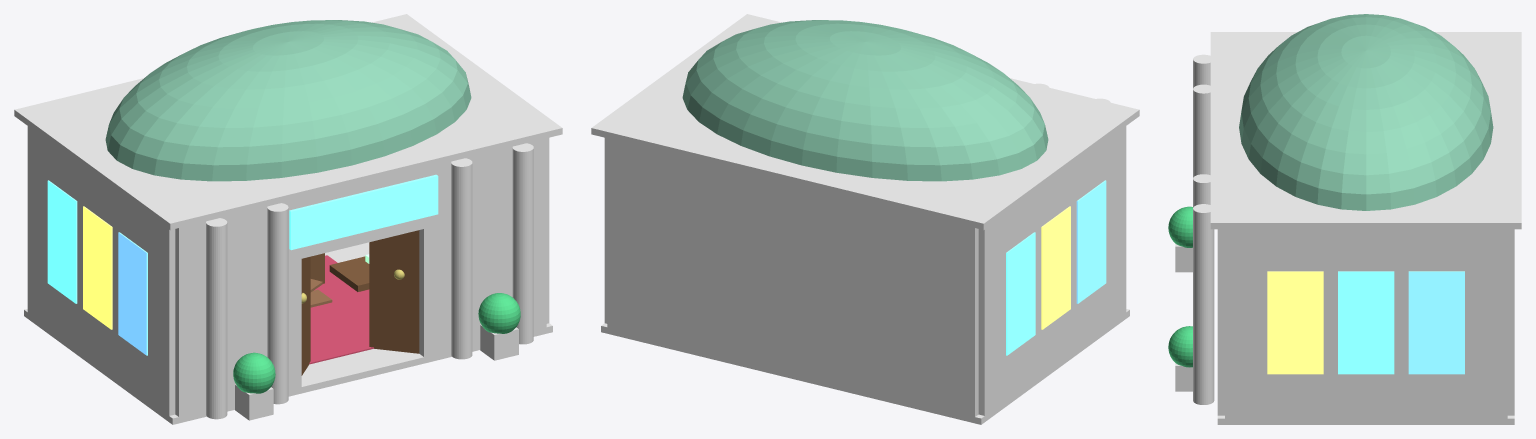
File: gen_1772928983489.glb
The picture shows the model from 3 angles, left to right: view 1: azimuth 30°, elevation 25°; view 2: azimuth 150°, elevation 25°; view 3: azimuth 270°, elevation 25°; orthographic projection.
Parts seen in each view (by area): view 1: Sphere, Cube.007, Cube.001, Cube.005, Cube.004, Cube.008, Cube.016, Cube, Cylinder.002, Cylinder, Cube.017, Cylinder.001 (+12 smaller); view 2: Cube.003, Sphere, Cube.007, Cube.001, Cube, Cube.009, Cube.013, Cube.011, Cube.002; view 3: Sphere, Cube.002, Cube.007, Cube.010, Cube.012, Cube.014, Cylinder.003, Cube, Cylinder.001, Cube.003, Cube.005, Sphere.007 (+5 smaller).
Part boxes in pixels (bbox=[...]): Sphere: bbox=[105, 20, 471, 181]; Cube.007: bbox=[14, 14, 562, 229]; Cube.001: bbox=[27, 126, 175, 415]; Cube.005: bbox=[419, 138, 546, 356]; Cube.004: bbox=[175, 198, 301, 416]; Cube.008: bbox=[289, 174, 438, 250]; Cube.016: bbox=[369, 230, 419, 353]; Cube: bbox=[24, 242, 552, 424]; Cylinder.002: bbox=[451, 158, 472, 359]; Cylinder: bbox=[206, 218, 227, 419]; Cube.017: bbox=[309, 255, 373, 364]; Cylinder.001: bbox=[267, 203, 288, 404]; Cube.003: bbox=[607, 138, 978, 416]; Sphere: bbox=[682, 20, 1048, 181]; Cube.007: bbox=[591, 14, 1139, 229]; Cube.001: bbox=[978, 126, 1126, 415]; Cube: bbox=[601, 309, 1129, 424]; Cube.009: bbox=[1076, 180, 1106, 303]; Cube.013: bbox=[1006, 232, 1035, 355]; Cube.011: bbox=[1041, 206, 1070, 329]; Cube.002: bbox=[604, 138, 607, 323]; Sphere: bbox=[1239, 14, 1493, 210]; Cube.002: bbox=[1225, 229, 1507, 418]; Cube.007: bbox=[1210, 32, 1521, 229]; Cube.010: bbox=[1267, 271, 1323, 374]; Cube.012: bbox=[1338, 271, 1394, 374]; Cube.014: bbox=[1408, 271, 1464, 374]; Cylinder.003: bbox=[1193, 204, 1214, 404]; Cube: bbox=[1217, 415, 1514, 424]; Cylinder.001: bbox=[1193, 84, 1210, 177]; Cube.003: bbox=[1507, 229, 1514, 415]; Cube.005: bbox=[1217, 229, 1224, 415]; Sphere.007: bbox=[1168, 326, 1192, 367].
Size of the model in its own units: 6.4 by 4.4 by 5.
